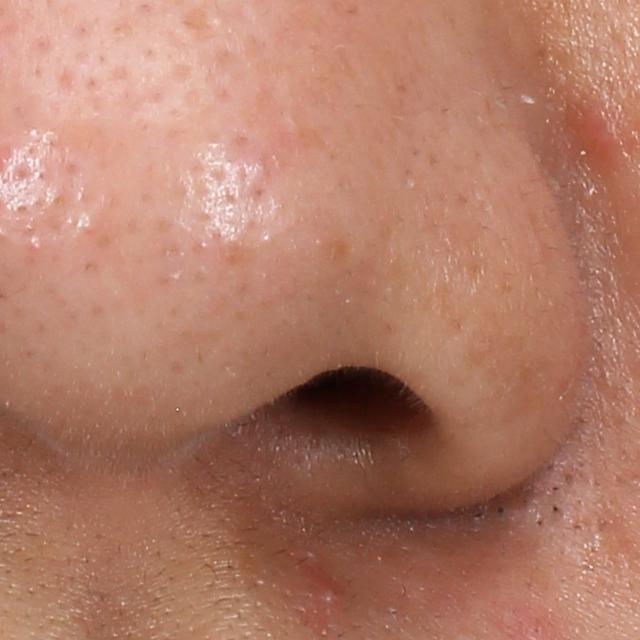atrophic_scar: (302, 562, 345, 622), (179, 3, 219, 42), (54, 65, 79, 99)
comedo: (495, 503, 507, 517)
